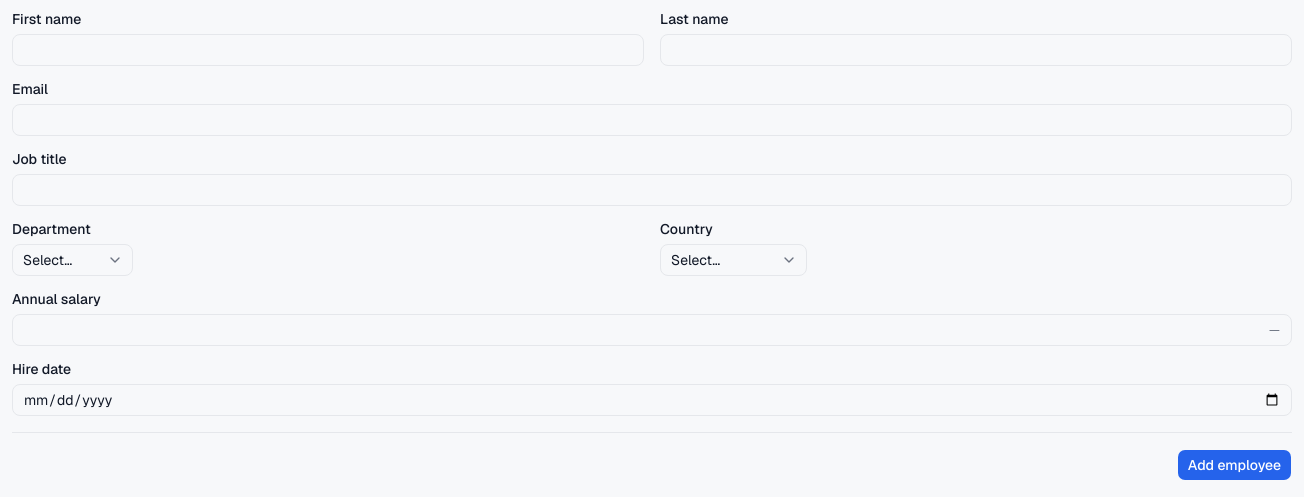
Test: EmployeeForm (create) › shows the currency for the selected country
Select "Japan" in the dropdown labelled "Country" at (734, 260), box [660,244,807,276]
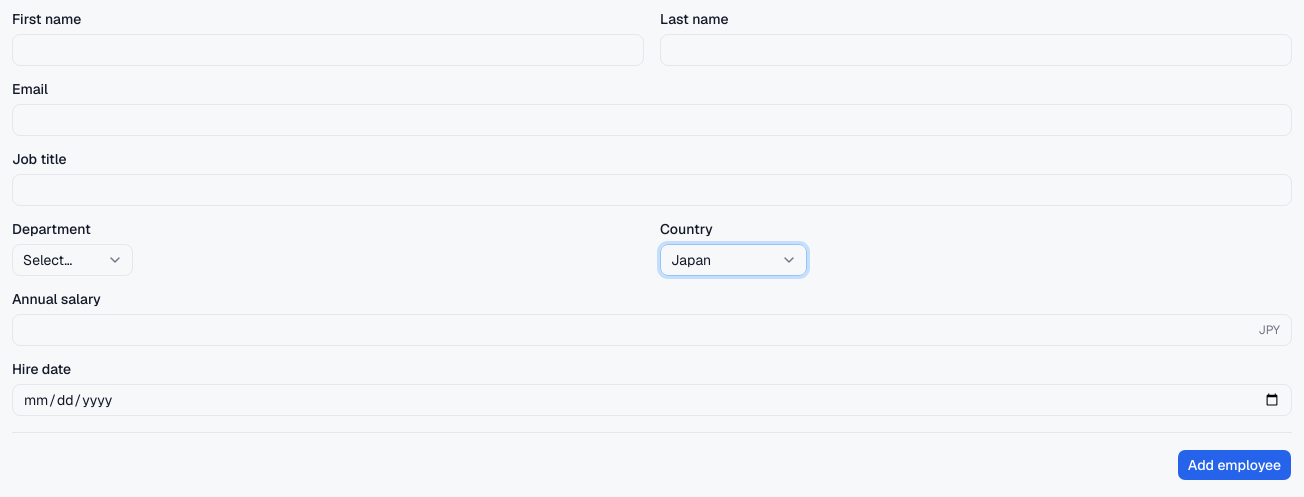
Result: the text with test id "salary-currency" reads "JPY" at [1258,322,1280,338]
